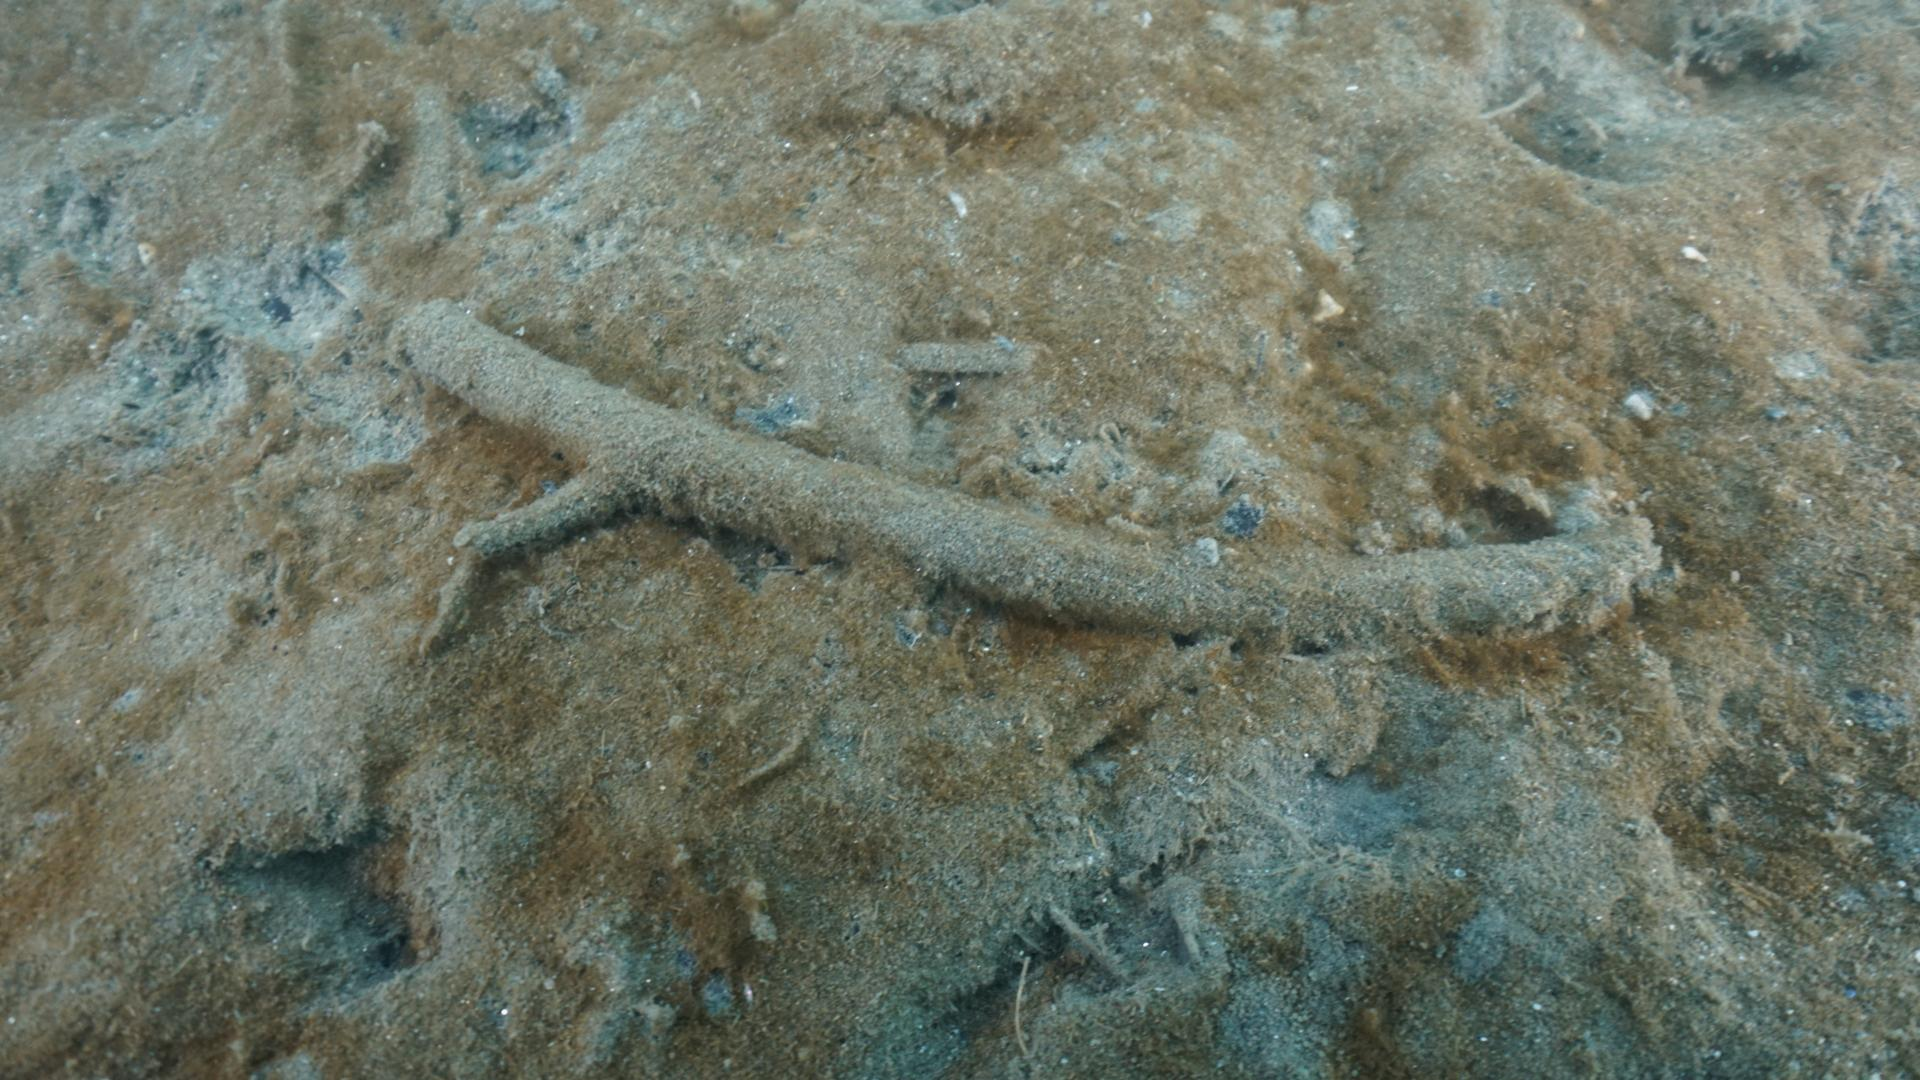wood: (400, 294, 1662, 659)
